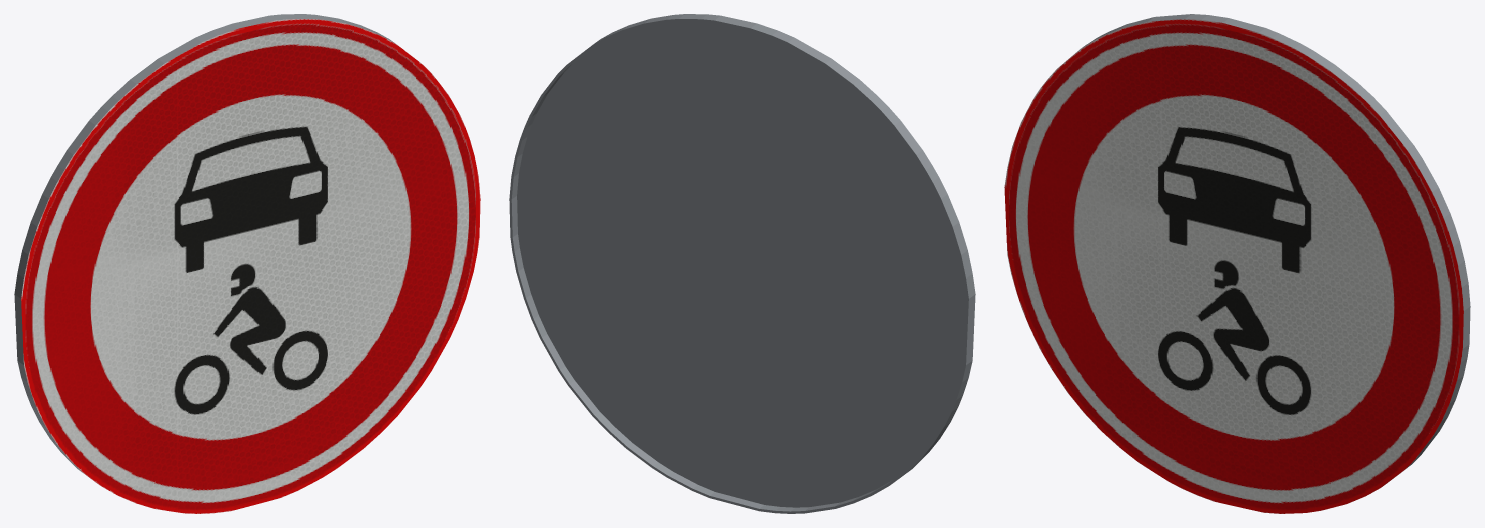
The picture shows the model from 3 angles, left to right: view 1: azimuth 30°, elevation 25°; view 2: azimuth 150°, elevation 25°; view 3: azimuth 330°, elevation 25°; orthographic projection.
Parts seen in each view (by area): view 1: cat_66e5bfe976178402; view 2: cat_66e5bfe976178402; view 3: cat_66e5bfe976178402.
Part boxes in pixels (left/top/right/bottom): cat_66e5bfe976178402: left=14, top=14, right=480, bottom=513; cat_66e5bfe976178402: left=509, top=14, right=975, bottom=513; cat_66e5bfe976178402: left=1004, top=14, right=1470, bottom=513.
Size of the model in its own units: 0.6 by 0.015 by 0.6.
Materials: 2 (1 with a texture image).
